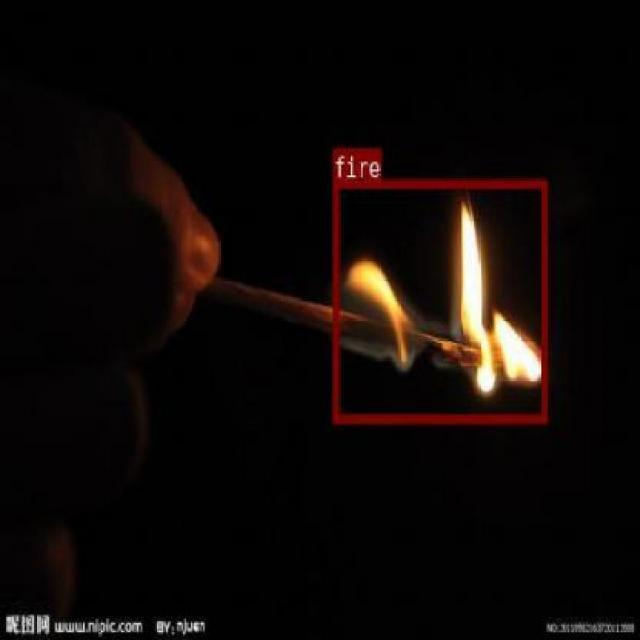Fire: (349, 194, 542, 400)
